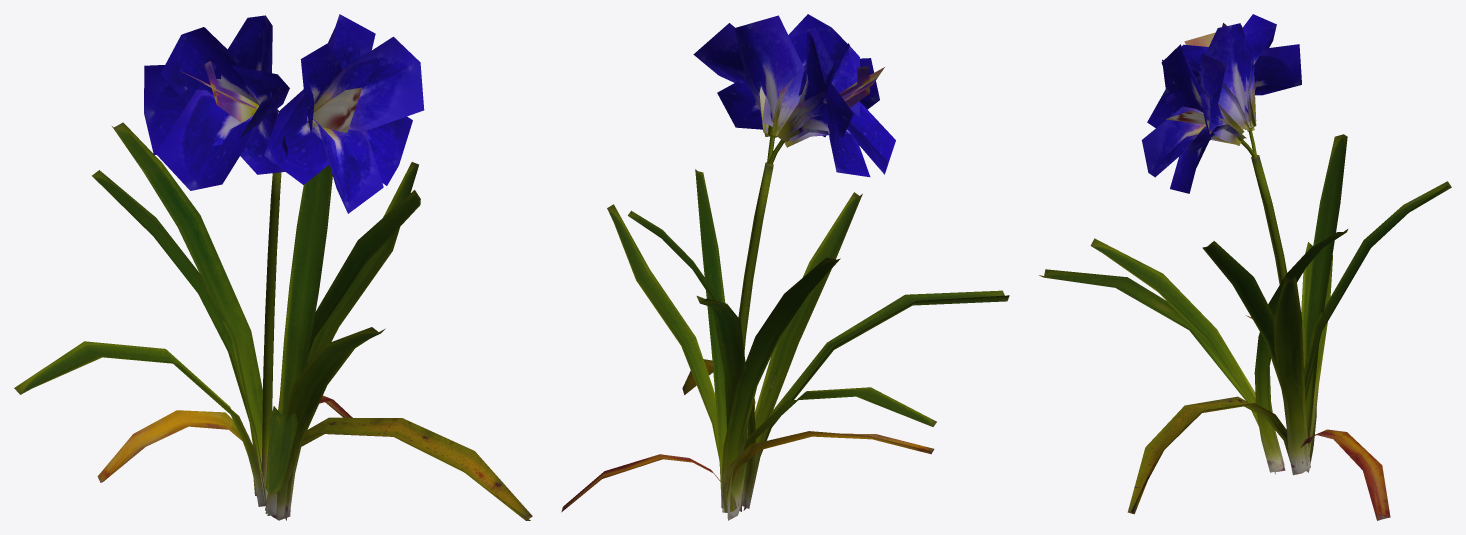
File: Amaryllis_OG_normal_deepblue.glb
3 views of the same model, side by side, from view 1: azimuth 30°, elevation 25°; view 2: azimuth 150°, elevation 25°; view 3: azimuth 270°, elevation 25° (orthographic). The views are drawn at different scales.
Parts seen in each view (by area): view 1: og; view 2: og; view 3: og.
Part boxes in pixels (x1,y1,x2,y2): og: (14, 14, 532, 520); og: (561, 14, 1009, 520); og: (1039, 14, 1451, 520).
Bounding box in the file's own units: 1.36 × 1.74 × 1.51.
1 material, 1 textured.
